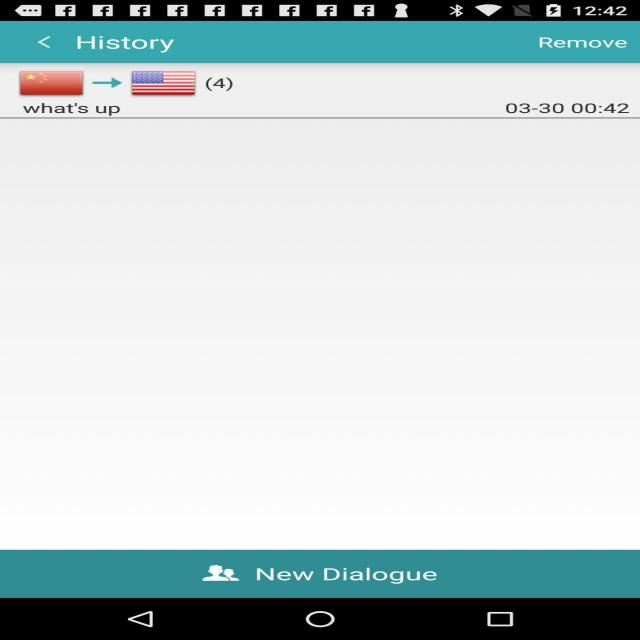button: (195, 564, 458, 590), (525, 27, 640, 57), (17, 28, 79, 60)
icon: (196, 563, 258, 589), (17, 32, 79, 58), (88, 72, 129, 96)
image: (8, 68, 88, 98), (125, 72, 198, 98)
text: (254, 562, 452, 588), (75, 32, 196, 59), (532, 28, 640, 57), (494, 101, 636, 118), (13, 102, 132, 118), (196, 71, 244, 94)
